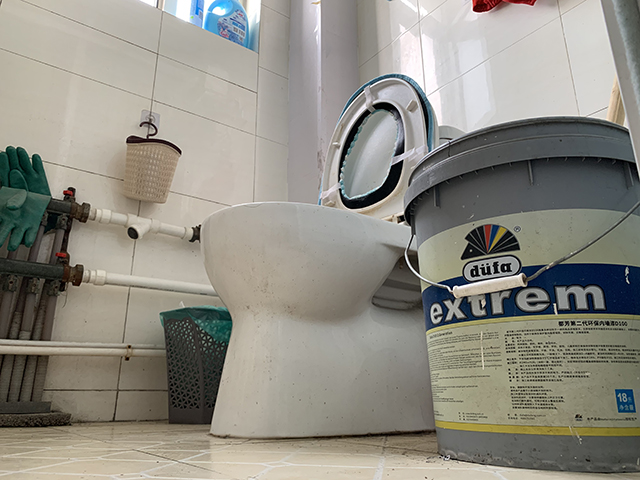closestool: (199, 68, 432, 440)
trashcan: (157, 305, 232, 425)
